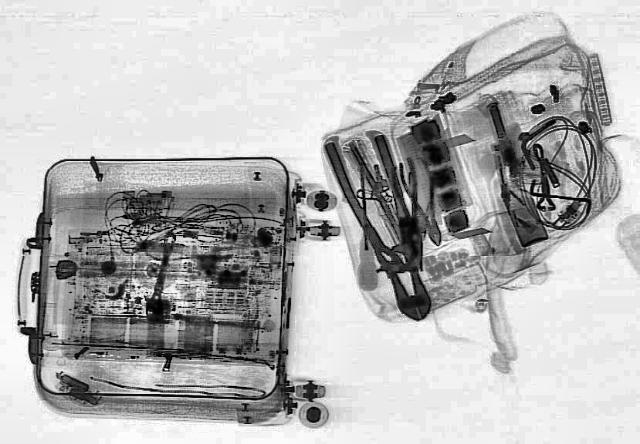Pliers: (322, 134, 452, 324), (370, 160, 440, 272), (392, 156, 454, 248)
